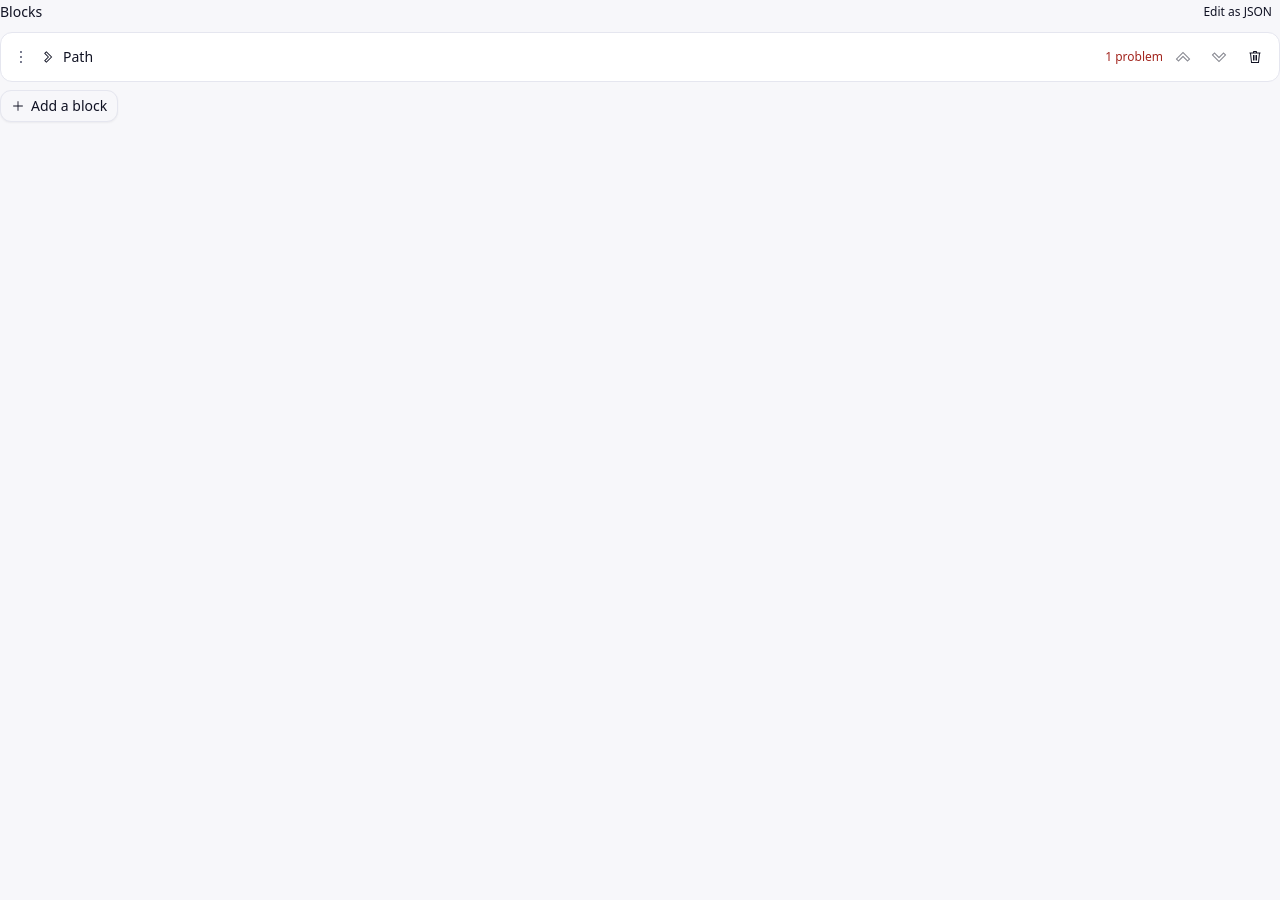
a list of values › checks each number against the item range
Check: the text "1 problem" is shown, box [1105,49,1163,65]
Click the button "Path" at (78, 56), box [37,43,1101,71]
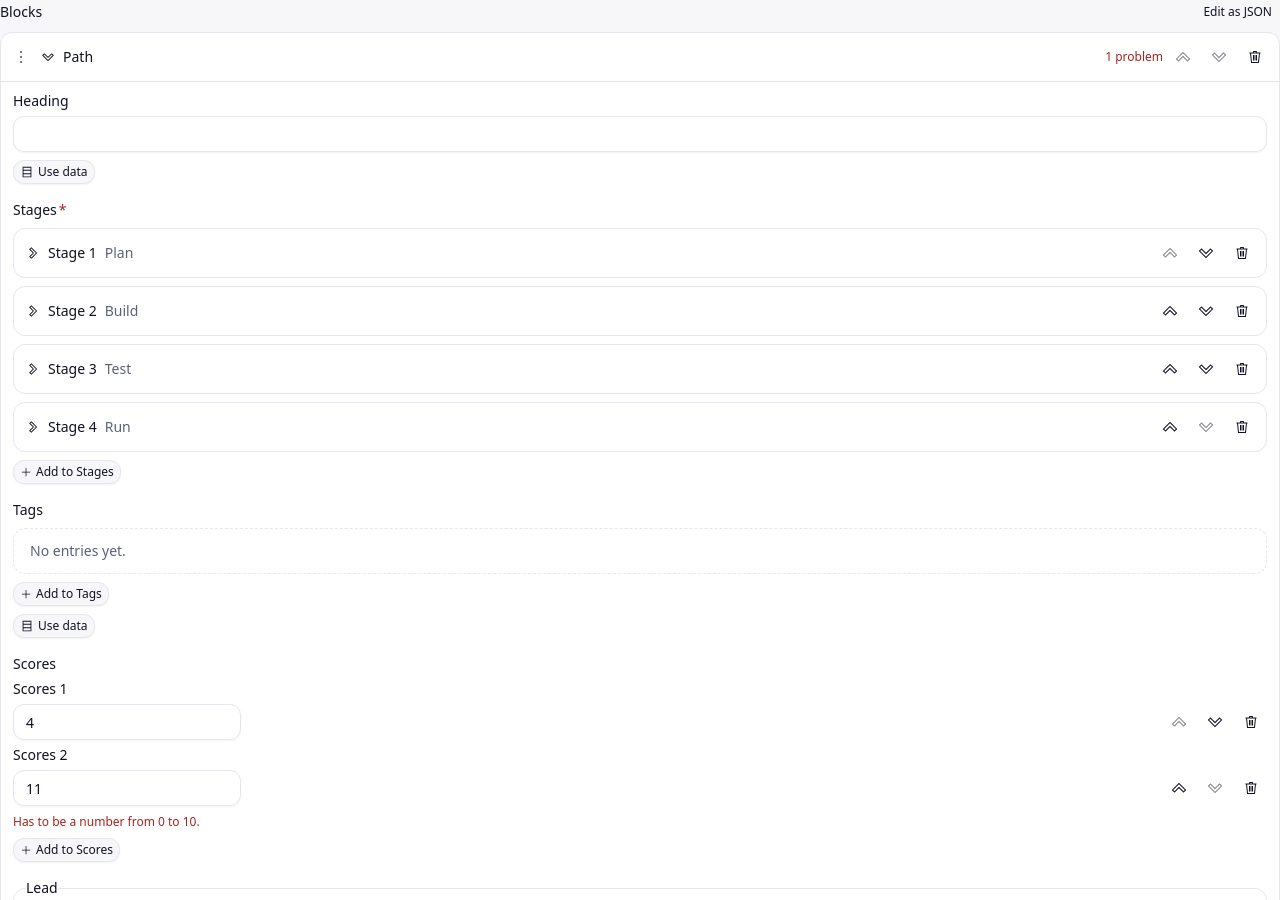
Check: the text "Has to be a number from 0 to 10." is shown once, box [13,813,200,830]
